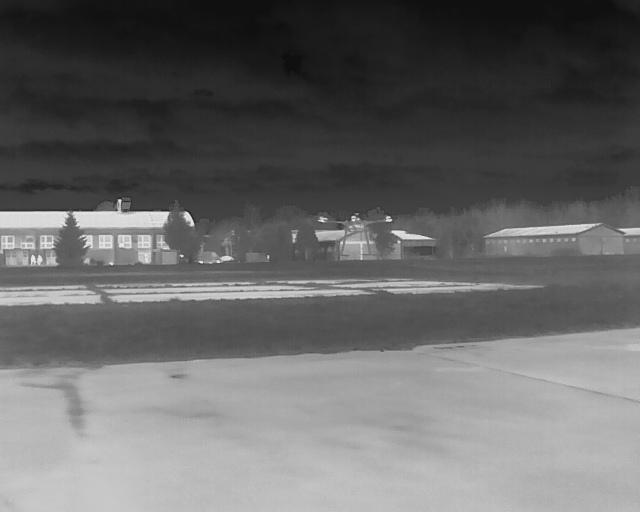drone: (304, 209, 393, 264)
